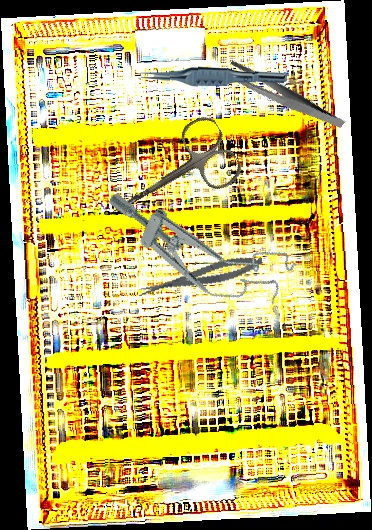Dressing Forceps: (222, 37, 347, 156)
Iris Scissors: (93, 111, 247, 243)
Micro Scissor: (135, 250, 265, 302)
Speculum: (91, 178, 300, 323)
Tissue Forceps: (137, 63, 288, 89)
